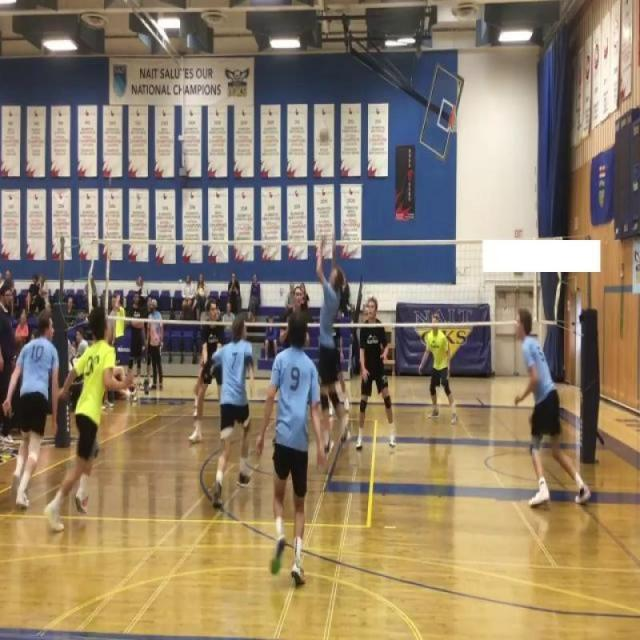volleyball: (319, 125, 330, 144)
